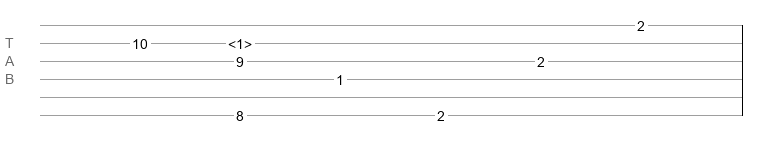1: (336, 72, 344, 82)
10: (132, 36, 148, 46)
2: (437, 108, 445, 118), (537, 54, 545, 64), (637, 18, 645, 28)
8: (236, 108, 244, 118)
9: (236, 54, 244, 64)
harmonic: (228, 36, 252, 46)
